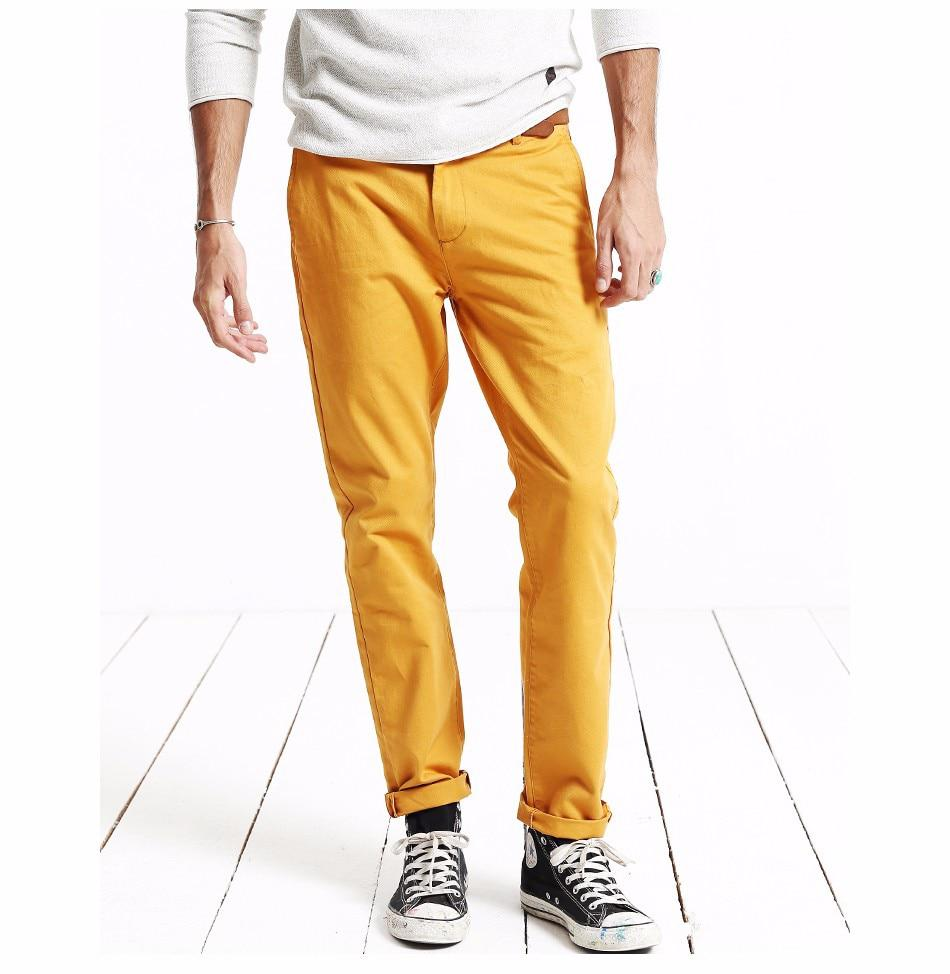pants: (276, 120, 612, 835)
